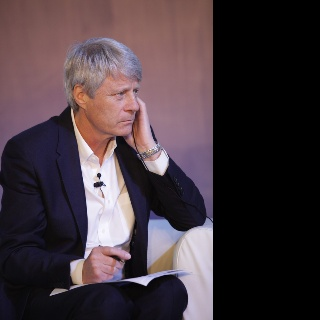without_mask: (85, 67, 140, 135)
